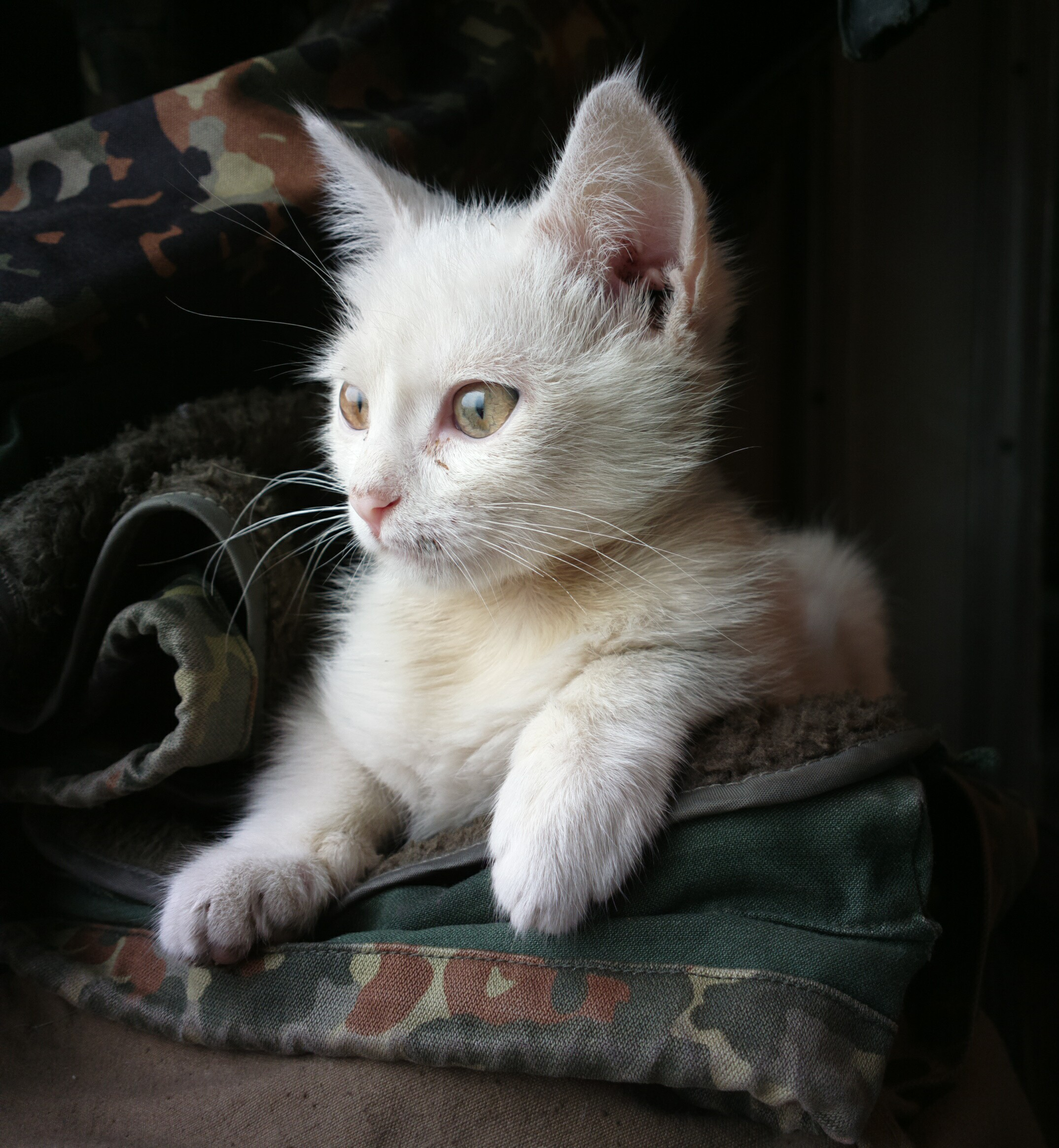cat: (143, 42, 886, 962)
